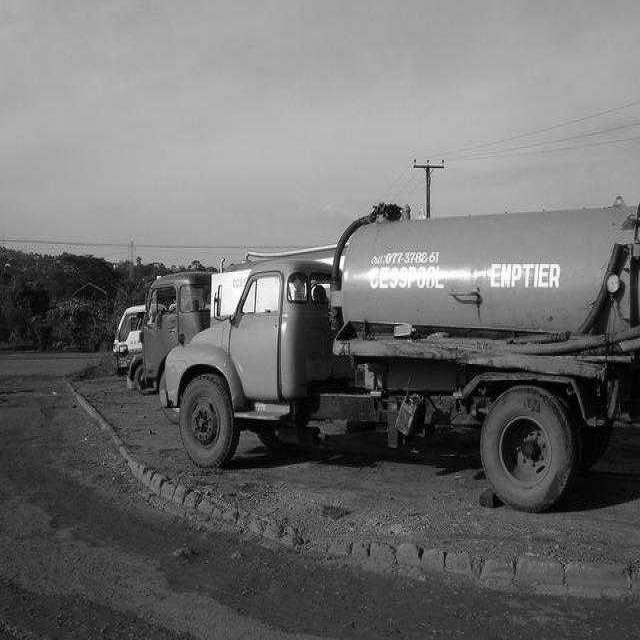Truck: (160, 203, 640, 510), (141, 272, 211, 386), (114, 305, 144, 379)
